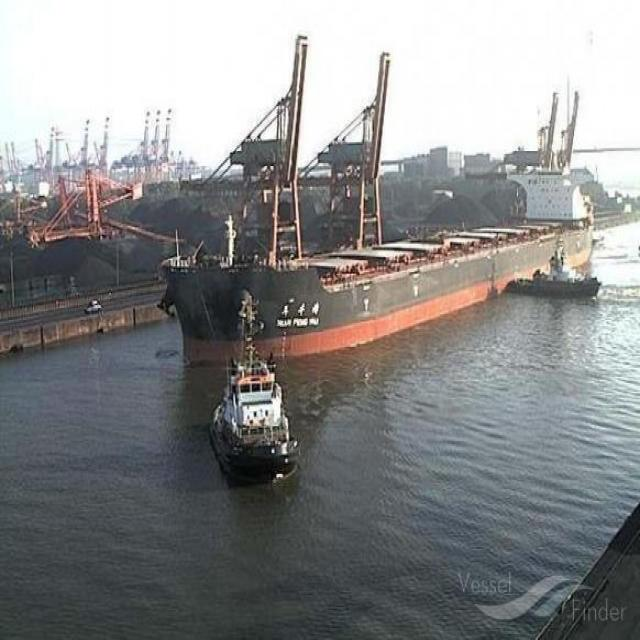OCR: (273, 295, 325, 332)
